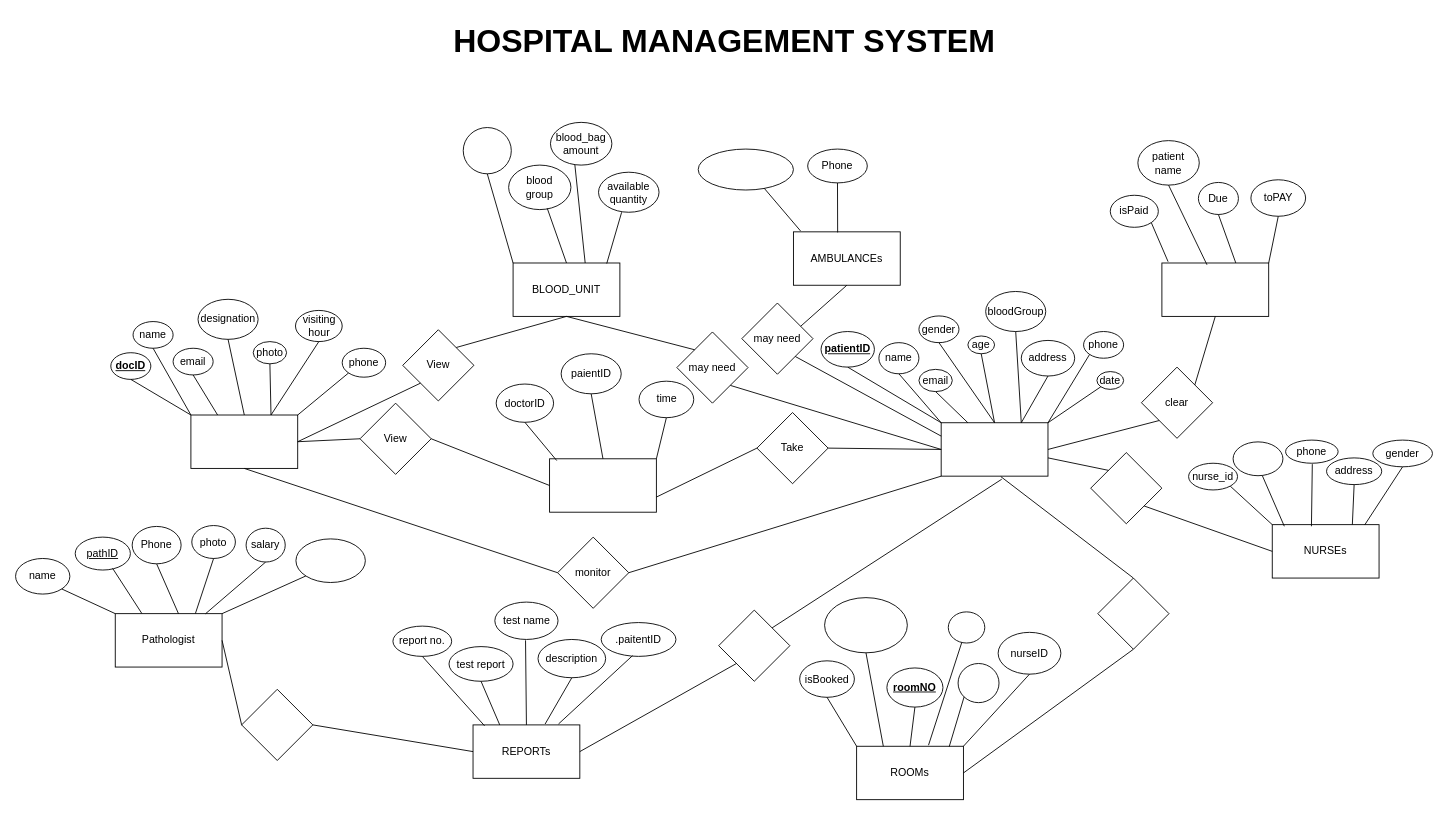
Some shapes in this 1448 by 815 pixel diagram are drawn without their labels. Each missing label, with the centre of its shape:
Ambulance_NO: pixel 745 169
APPOINMENTs: pixel 602 485
Book: pixel 1133 613
cost: pixel 486 150
DOCTORs: pixel 244 441
give: pixel 277 724
have: pixel 754 645
numberOfBed: pixel 865 625
nurse name: pixel 1257 458
PATIENTs: pixel 994 449
PAYMENTs: pixel 1215 289
rate: pixel 978 683
serve: pixel 1126 488
type: pixel 966 627
workingHours: pixel 330 560
